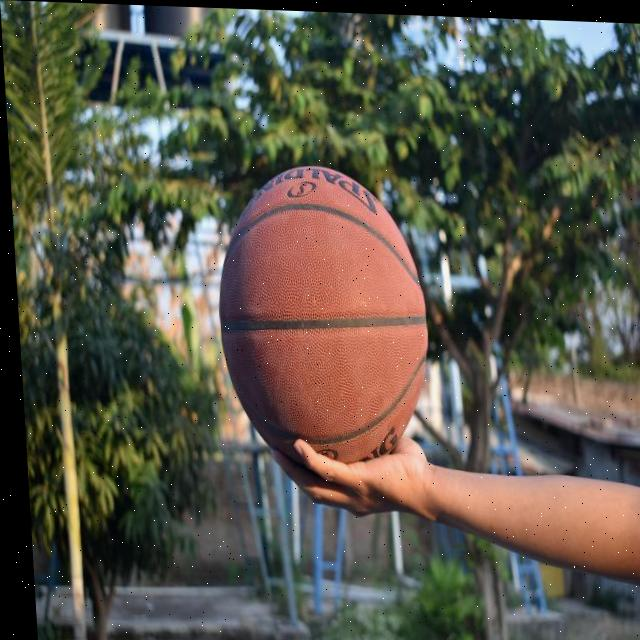Basketball: (210, 162, 438, 480)
